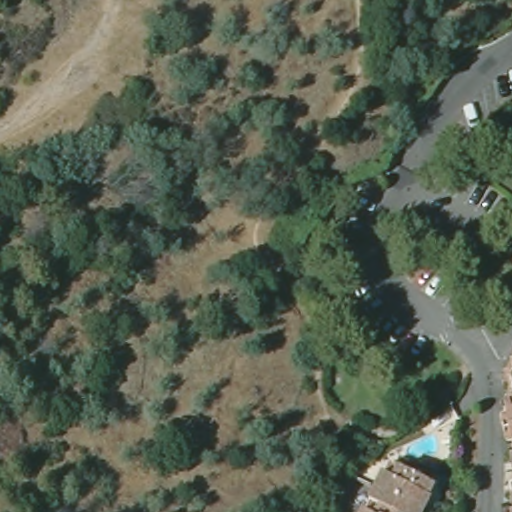pool: (404, 432, 440, 461)
